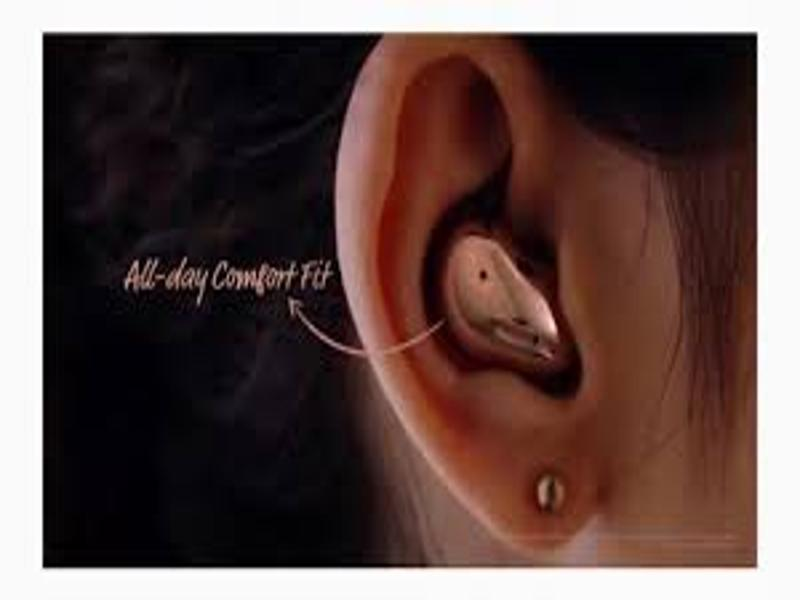headphone: (433, 225, 578, 389)
